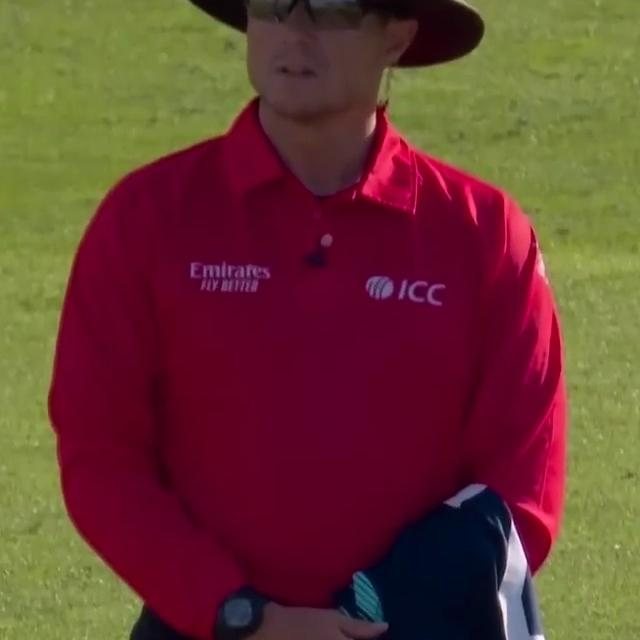umpire: (3, 0, 621, 640)
